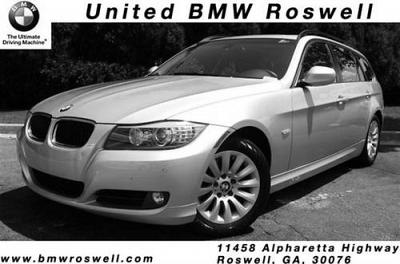car: (17, 33, 386, 240)
